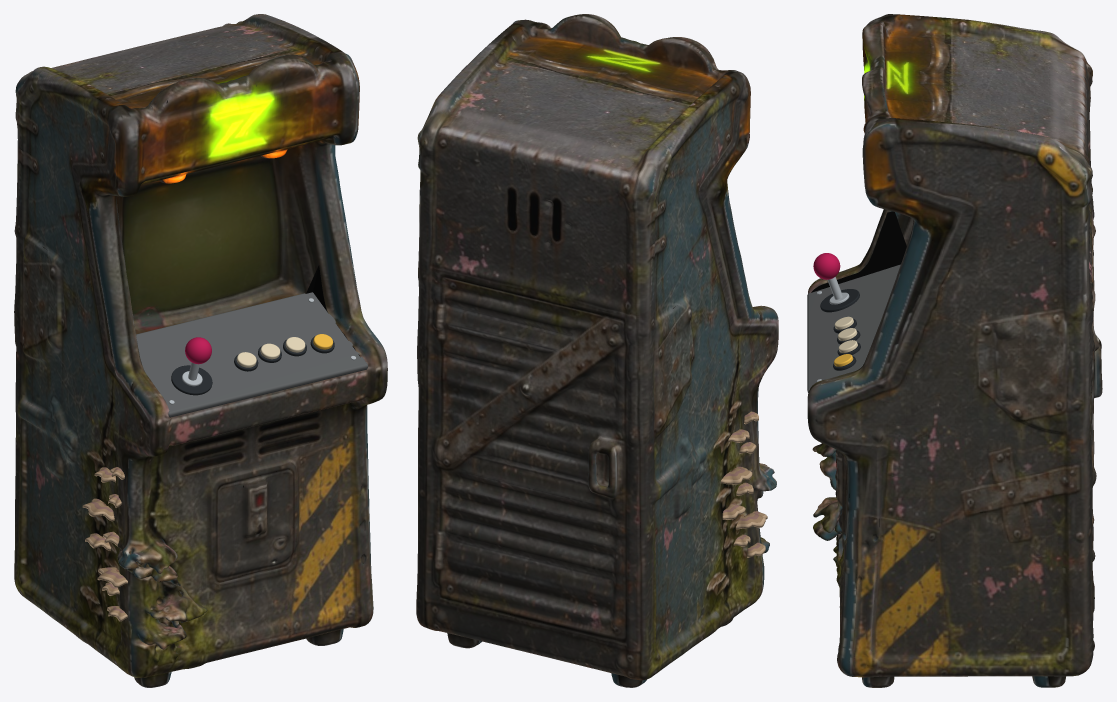
File: gutter-cabinet.glb
3 views of the same model, side by side, from view 1: azimuth 30°, elevation 25°; view 2: azimuth 150°, elevation 25°; view 3: azimuth 270°, elevation 25° (orthographic). The views are drawn at different scales.
Visible parts, largest first — view 1: Gutter Cabinet · cast steel, CRT, and fungal buildup, Beveled control insert, Lever dust washer, Cherry joystick balltop; view 2: Gutter Cabinet · cast steel, CRT, and fungal buildup; view 3: Gutter Cabinet · cast steel, CRT, and fungal buildup, Beveled control insert, Cherry joystick balltop, Lever dust washer.
Boxes of the visible parts, x1=… form: Gutter Cabinet · cast steel, CRT, and fungal buildup: x1=14, y1=14, x2=387, y2=687; Beveled control insert: x1=136, y1=292, x2=368, y2=417; Lever dust washer: x1=171, y1=365, x2=212, y2=395; Cherry joystick balltop: x1=185, y1=337, x2=211, y2=364; Gutter Cabinet · cast steel, CRT, and fungal buildup: x1=416, y1=14, x2=778, y2=687; Gutter Cabinet · cast steel, CRT, and fungal buildup: x1=807, y1=14, x2=1102, y2=687; Beveled control insert: x1=807, y1=264, x2=900, y2=392; Cherry joystick balltop: x1=813, y1=253, x2=840, y2=279; Lever dust washer: x1=820, y1=289, x2=859, y2=312.
Size of the model in its own units: 0.8896 by 1.94 by 0.8801.
Materials: 11 (1 with a texture image).
